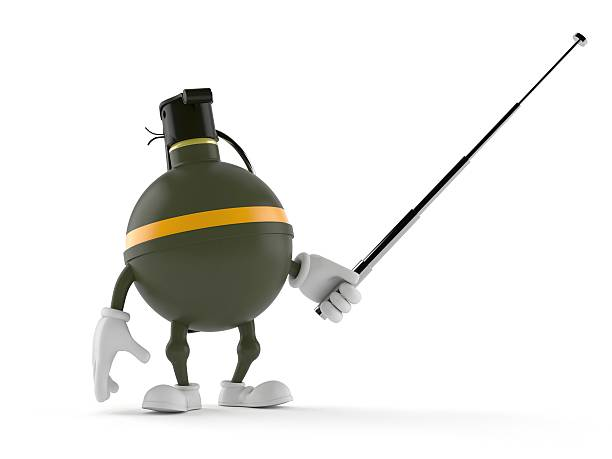e1: (122, 88, 293, 327)
